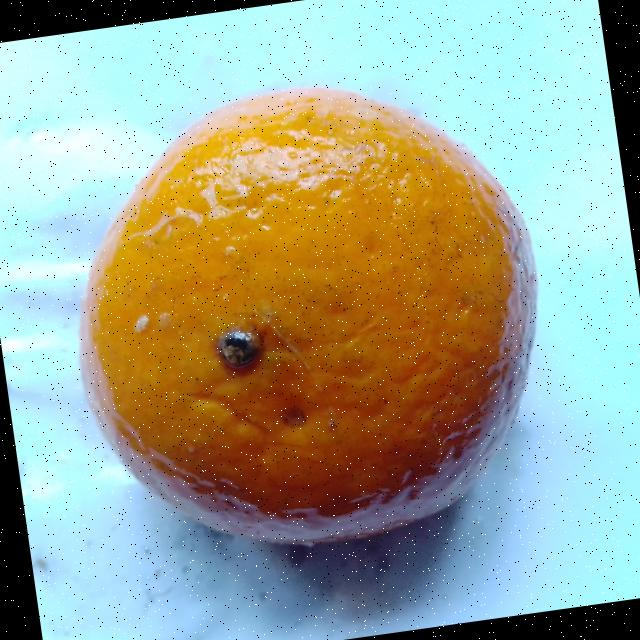Rotten: (45, 58, 570, 575)
